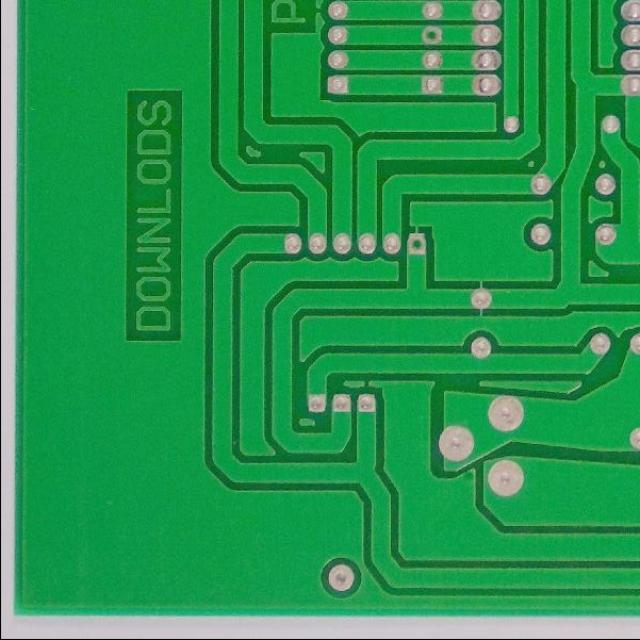Missing_Hole: (404, 229, 428, 257), (420, 23, 444, 46)
